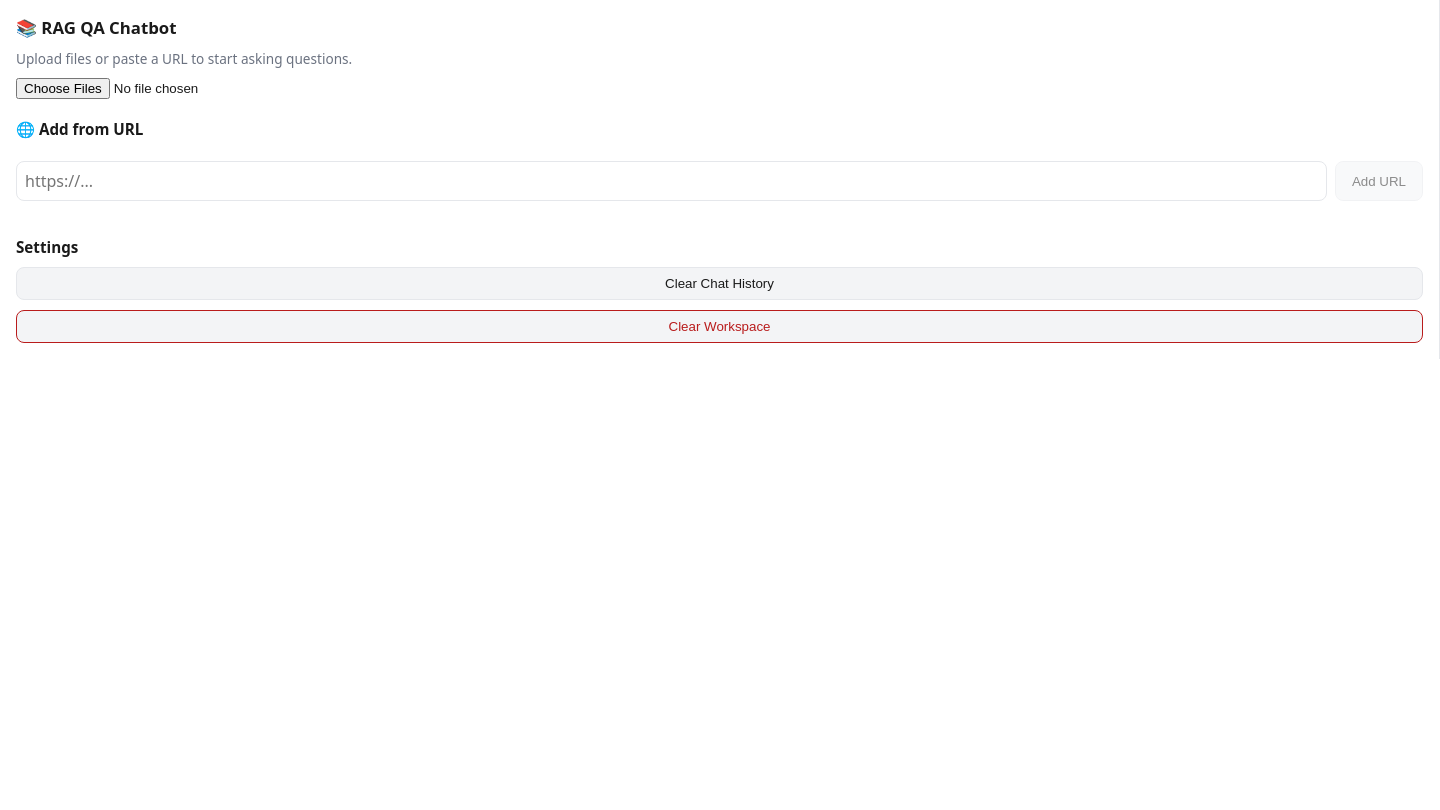
Test: Sidebar clear workspace › asks for confirmation and does nothing when cancelled
Click the button "Clear Workspace".
click(720, 326)  # box [16,310,1423,343]
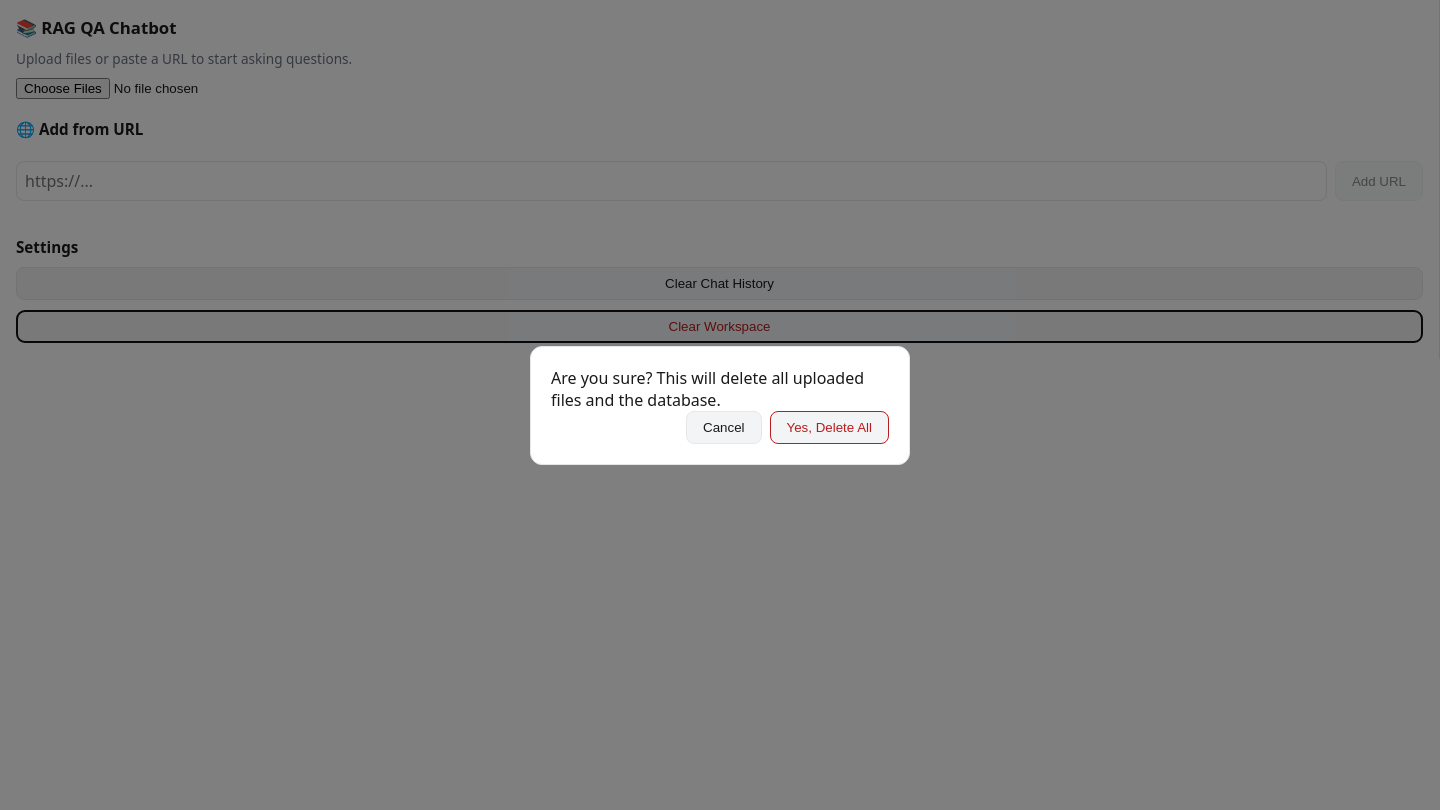
Result: the dialog is shown at [530,346,910,464]
Click the button "Cancel".
click(724, 427)  # box [686,410,762,444]
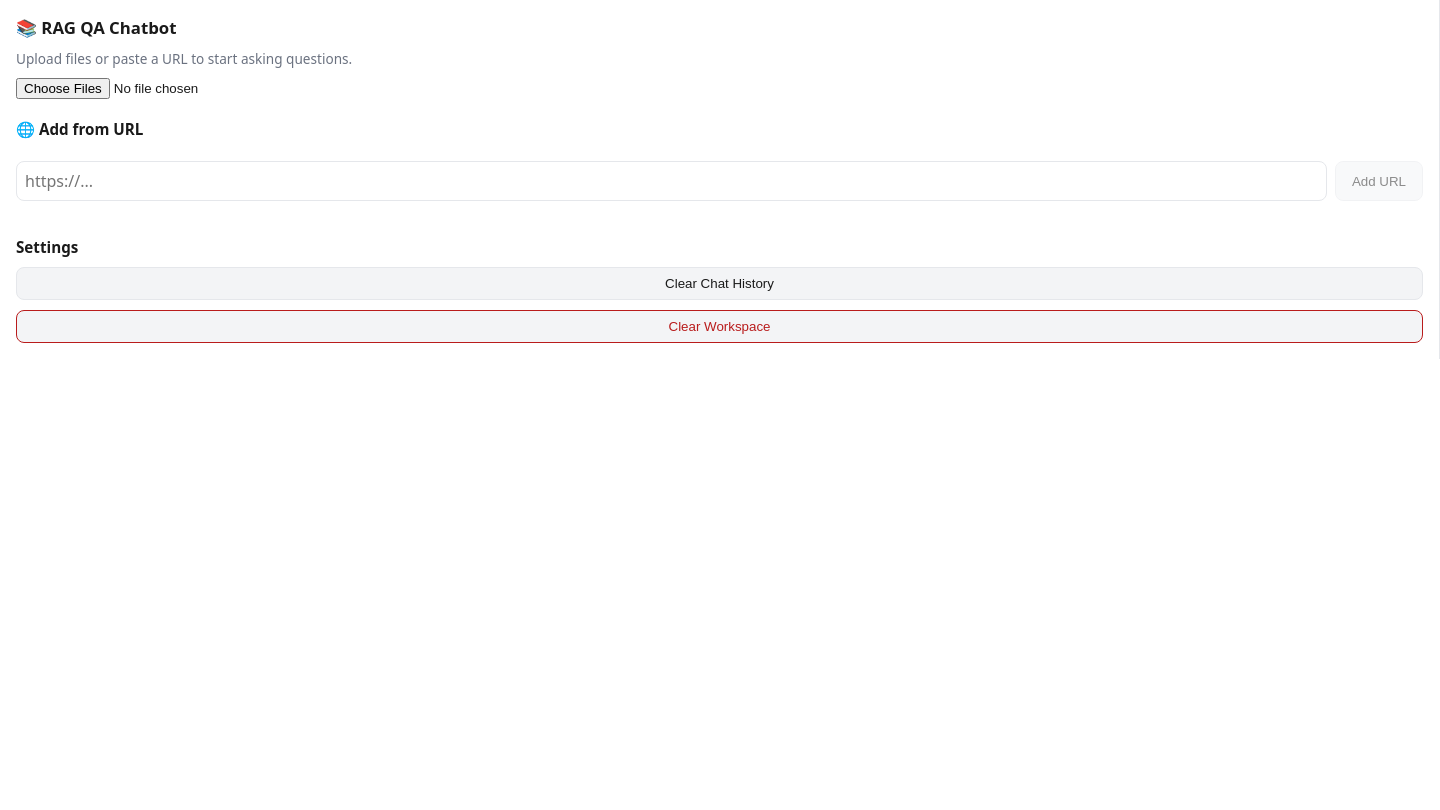
Result: the dialog is gone
